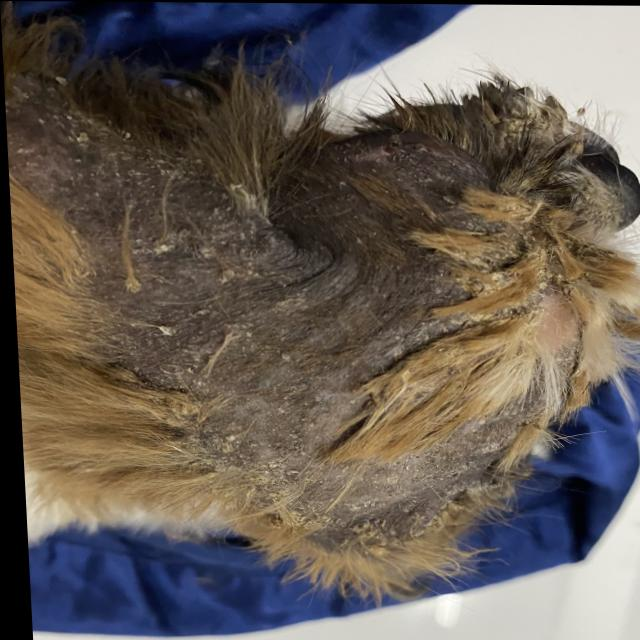demodicosis: (104, 128, 262, 492), (259, 116, 485, 369), (280, 379, 504, 562), (14, 88, 89, 231)
